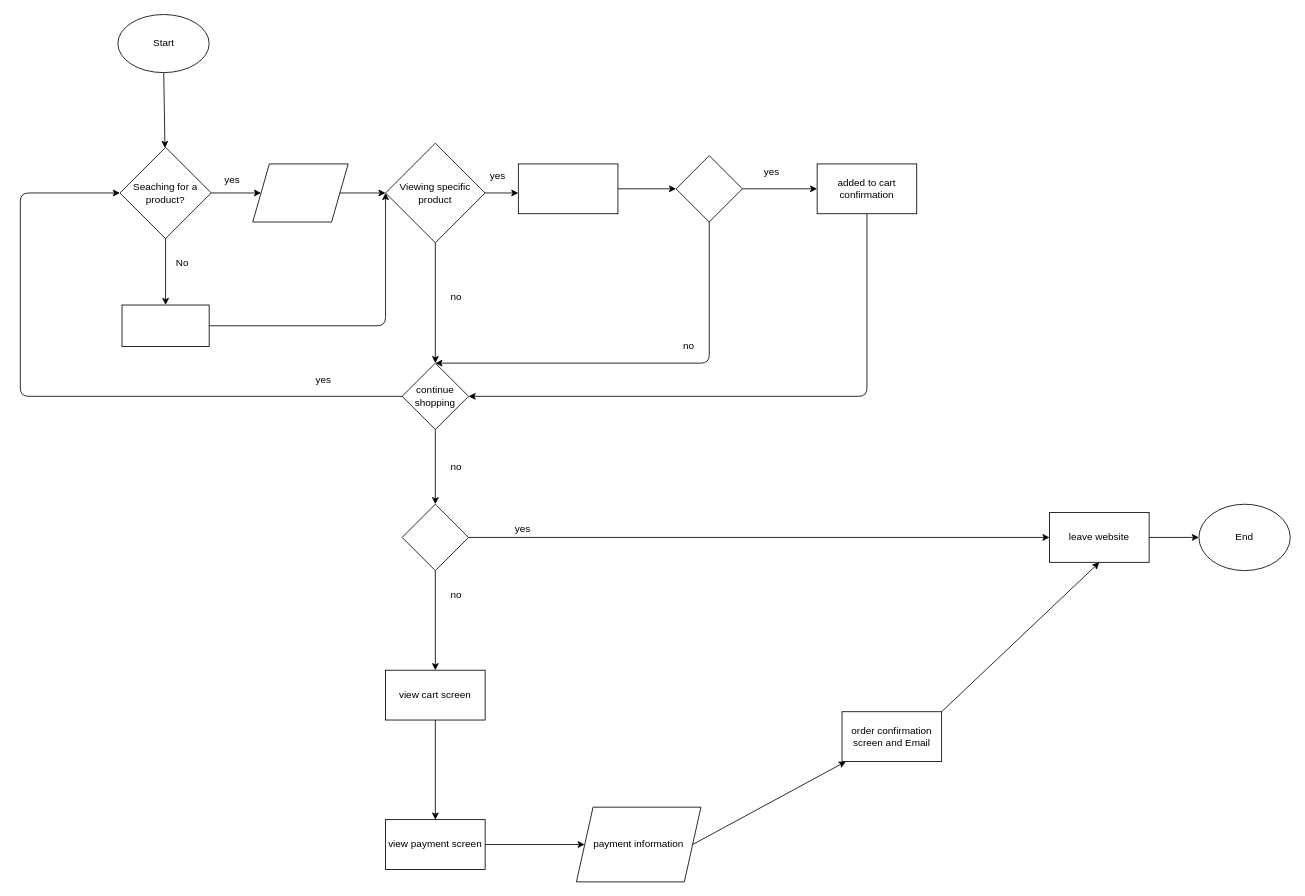
The diagram is 1305 pixels wide and 896 high, and some of its shapes have lost their labels. The centre of each missing label's shape, as x and y in pixels:
add to cart: [708,188]
Checkout: [435,537]
Exploring the products: [165,325]
Webpage open: [568,188]
website of their search: [300,192]
